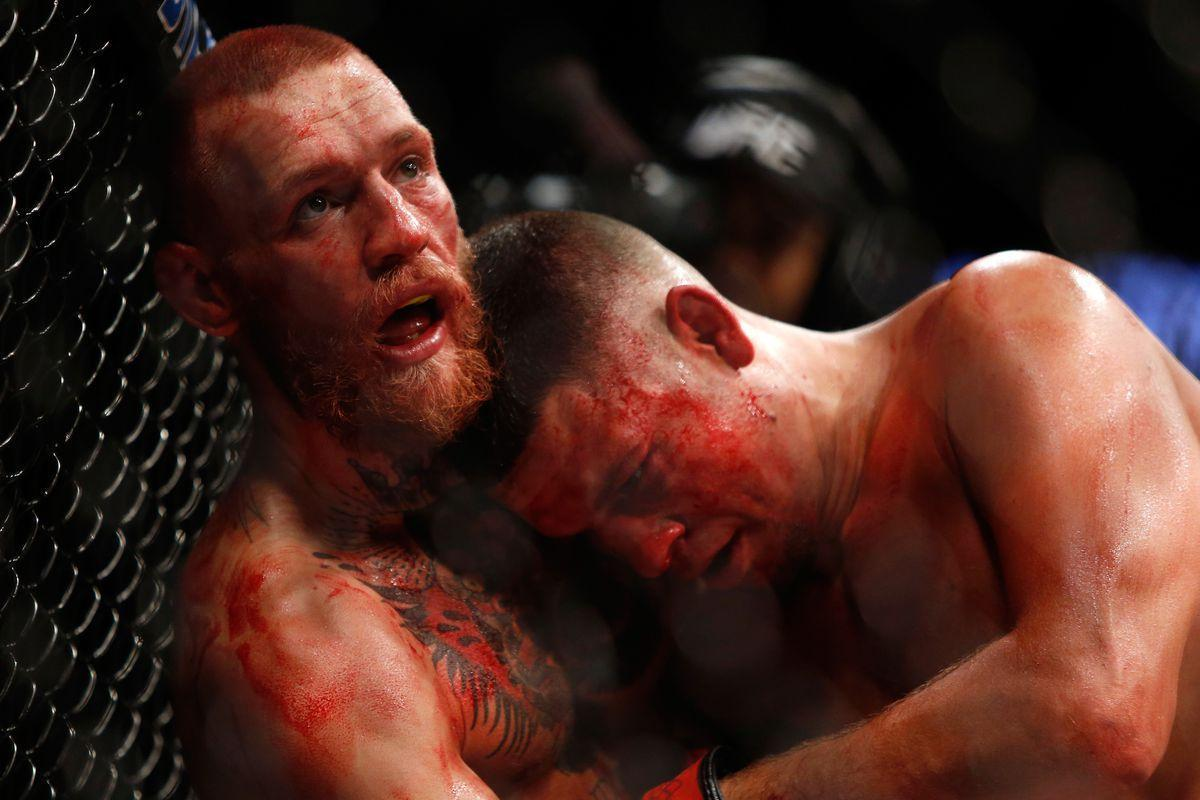Fire: (192, 50, 490, 444), (501, 284, 827, 585), (177, 541, 398, 799)
